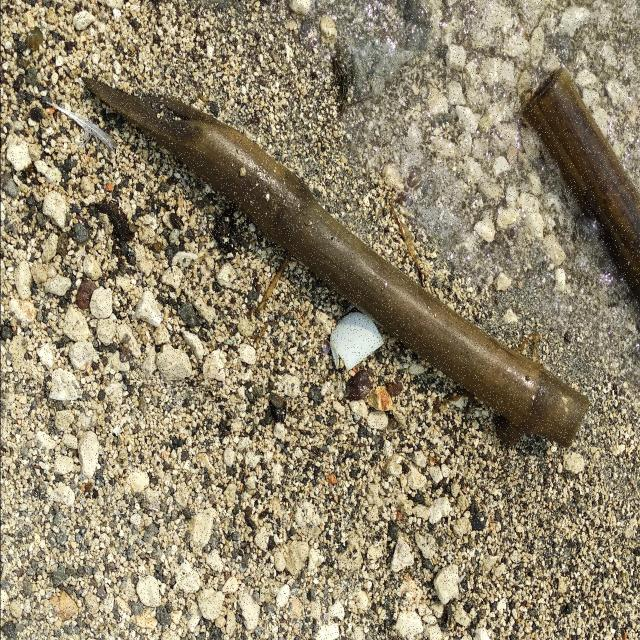wood_waste: (79, 74, 591, 451)
